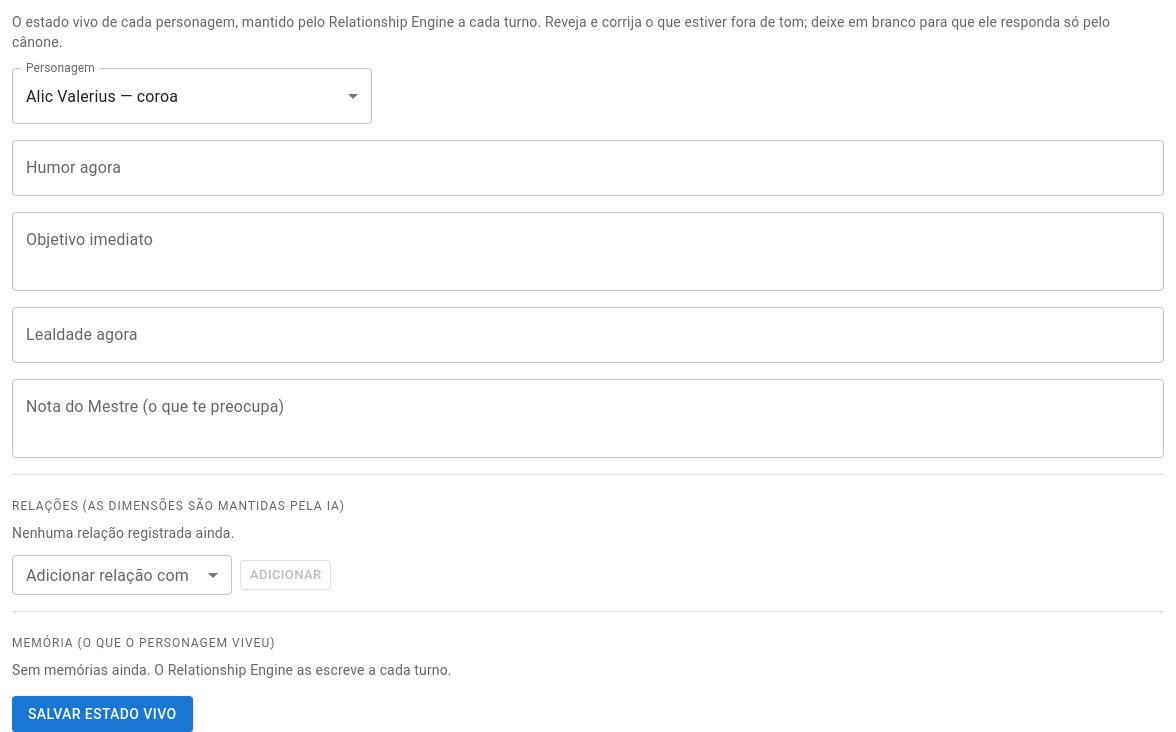
AdminLivingTab › mostra a memória e as relações que o Relationship Engine gravaria
The width and height of the screenshot is (1176, 732).
Click the dropdown named "Personagem". click: (102, 96)
box: x1=26 y1=86 x2=178 y2=106
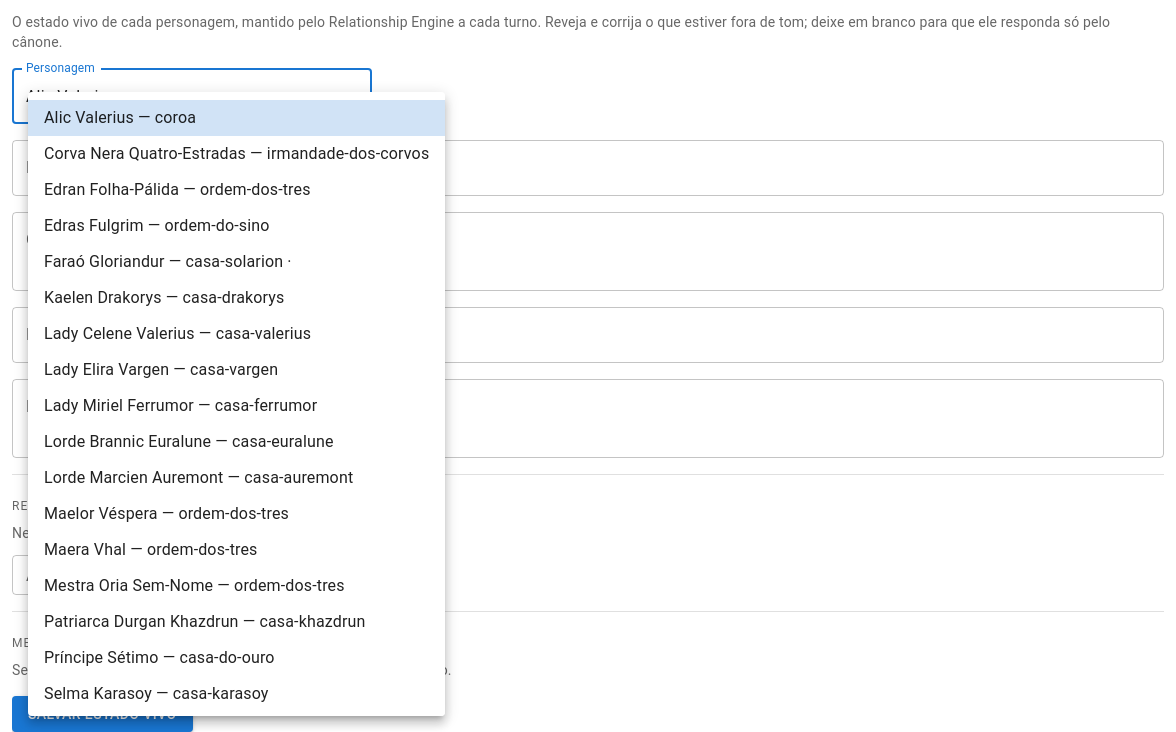
Click the option "Faraó Gloriandur — casa-solarion ·". click: (168, 262)
box: x1=44 y1=252 x2=292 y2=271
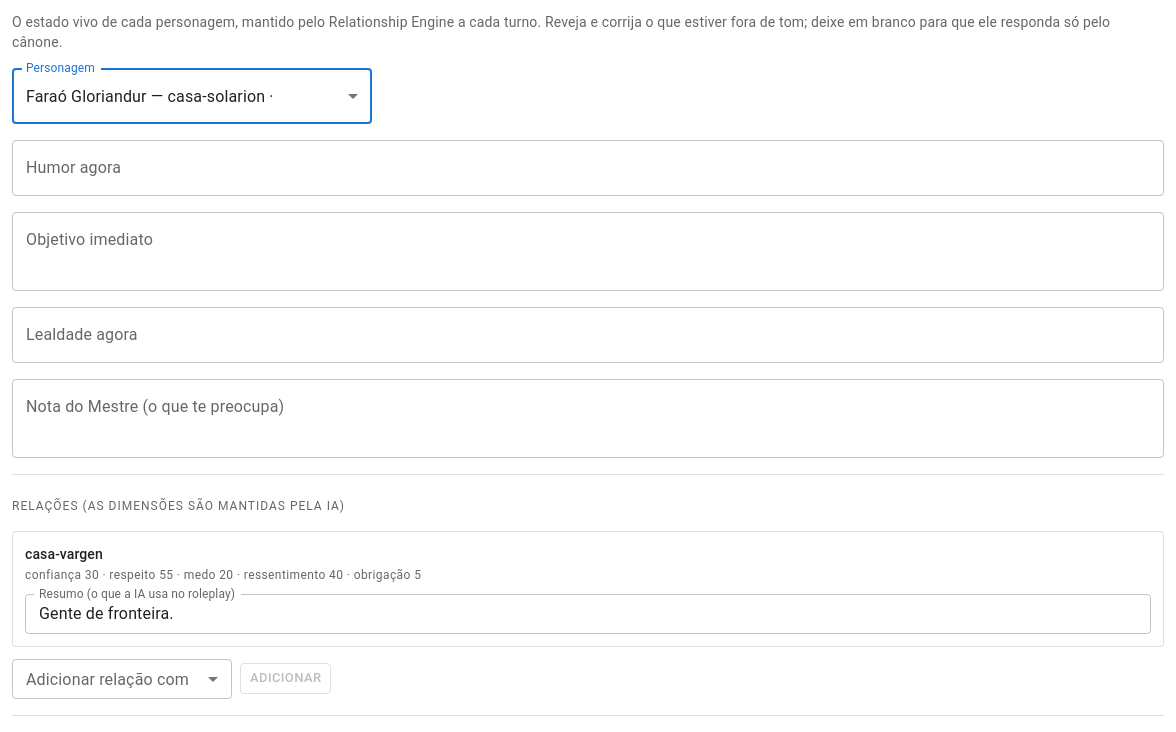
Expected: the text "confiança 30" is shown, x1=25 y1=568 x2=421 y2=582
